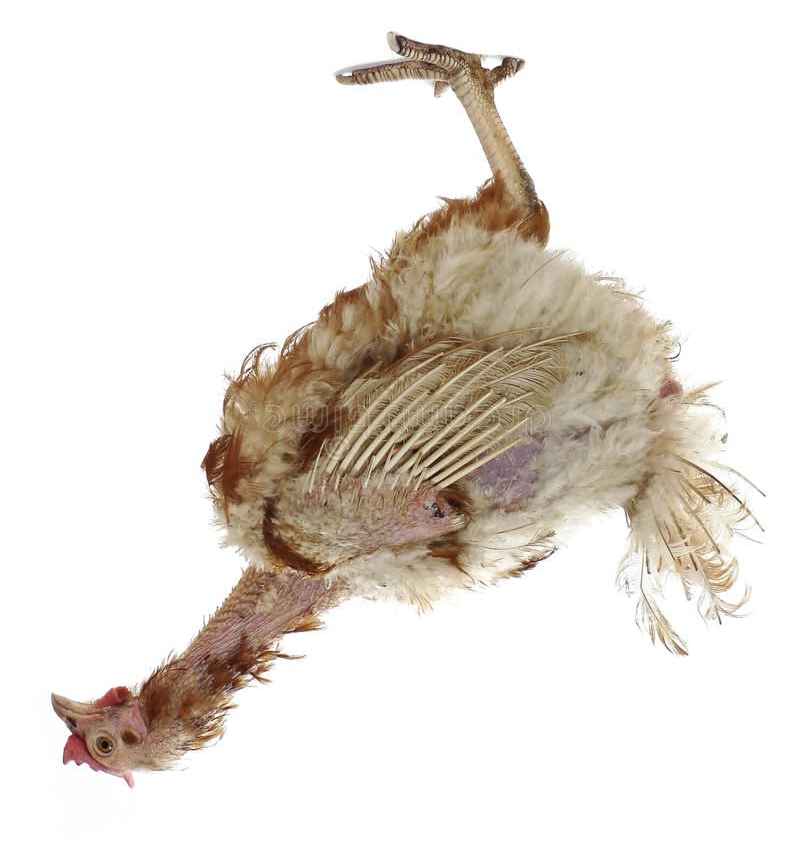Unhealthy: (38, 25, 758, 790)
